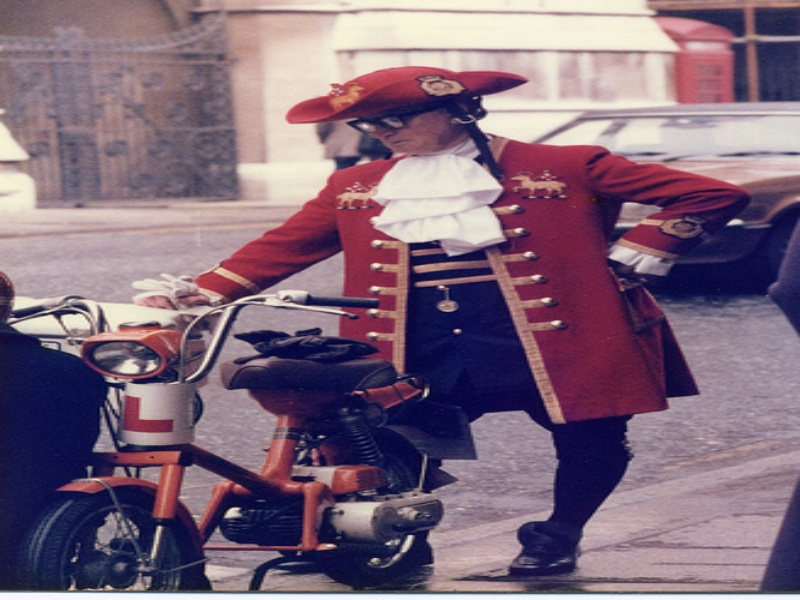person: (134, 65, 753, 578)
